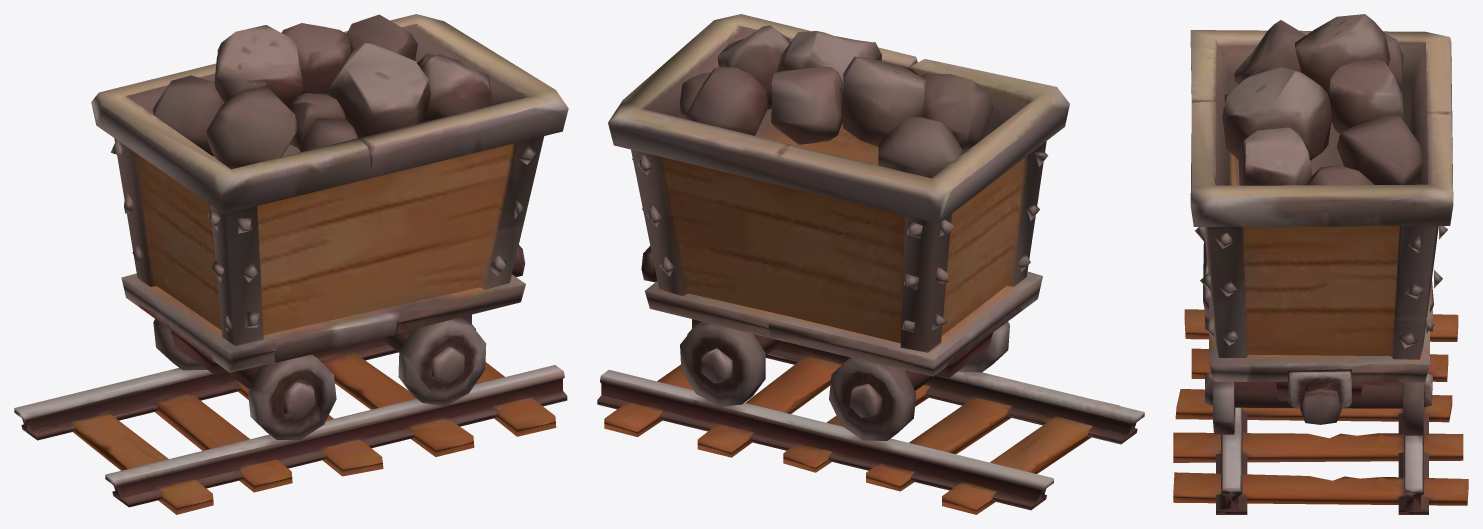
Rendered from mining_ore_cart.glb.
3 renders of one model, left to right at view 1: azimuth 30°, elevation 25°; view 2: azimuth 150°, elevation 25°; view 3: azimuth 270°, elevation 25°, orthographic.
Parts seen in each view (by area): view 1: tripo_node_ce027bce-f6ea-4cdc-9307-aea37ebdea2b; view 2: tripo_node_ce027bce-f6ea-4cdc-9307-aea37ebdea2b; view 3: tripo_node_ce027bce-f6ea-4cdc-9307-aea37ebdea2b.
Boxes of the visible parts, left/top/right/bottom form: tripo_node_ce027bce-f6ea-4cdc-9307-aea37ebdea2b: left=14, top=14, right=568, bottom=514; tripo_node_ce027bce-f6ea-4cdc-9307-aea37ebdea2b: left=597, top=14, right=1144, bottom=514; tripo_node_ce027bce-f6ea-4cdc-9307-aea37ebdea2b: left=1173, top=14, right=1468, bottom=514.
Bounding box in the file's own units: 1.35 × 1.1 × 0.7714.
1 material, 1 textured.
